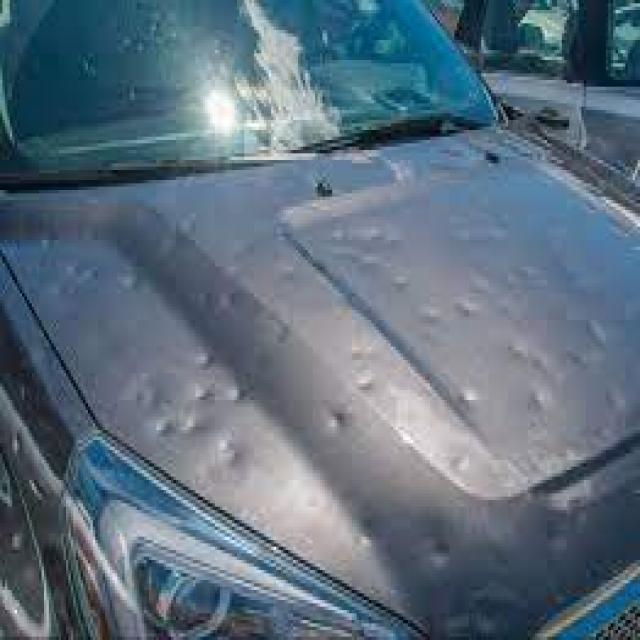minor: (164, 358, 242, 473), (408, 285, 490, 336), (140, 375, 178, 455), (415, 536, 473, 574), (538, 510, 581, 558), (195, 278, 248, 316), (322, 392, 347, 438), (590, 320, 607, 365), (116, 267, 136, 296)
